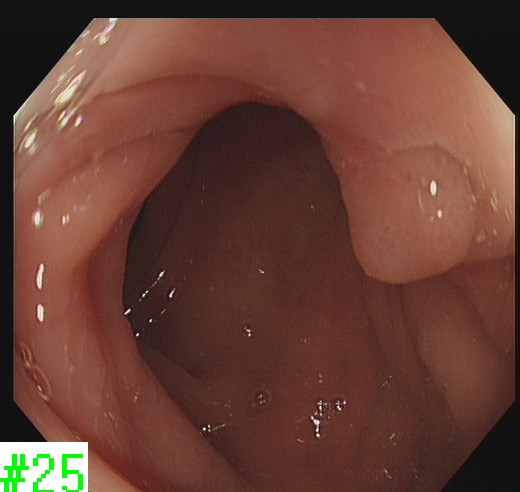adenoma: (335, 143, 479, 287)
